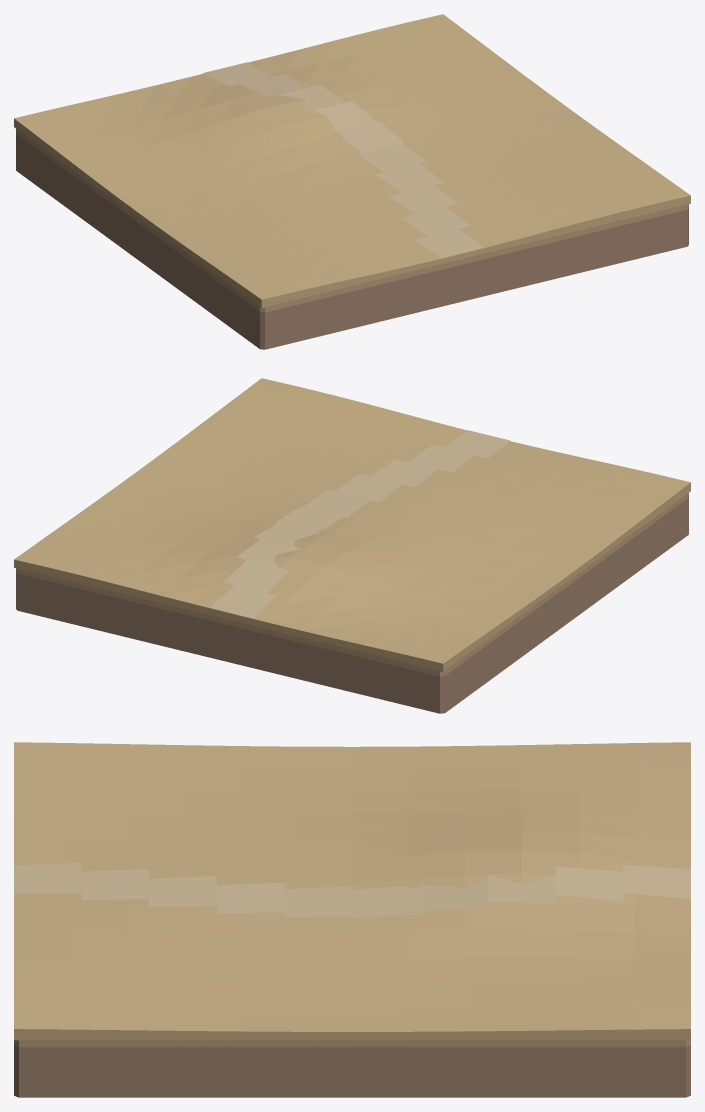
3 views of the same model, one above another, from view 1: azimuth 30°, elevation 25°; view 2: azimuth 150°, elevation 25°; view 3: azimuth 270°, elevation 25° (orthographic). The views are drawn at different scales.
Visible parts, largest first — view 1: B06; view 2: B06; view 3: B06.
Part boxes in pixels (bbox=[...]): B06: bbox=[14, 14, 690, 349]; B06: bbox=[14, 378, 690, 713]; B06: bbox=[14, 742, 690, 1097].
Bounding box in the file's own units: 8 × 1.07 × 8.
